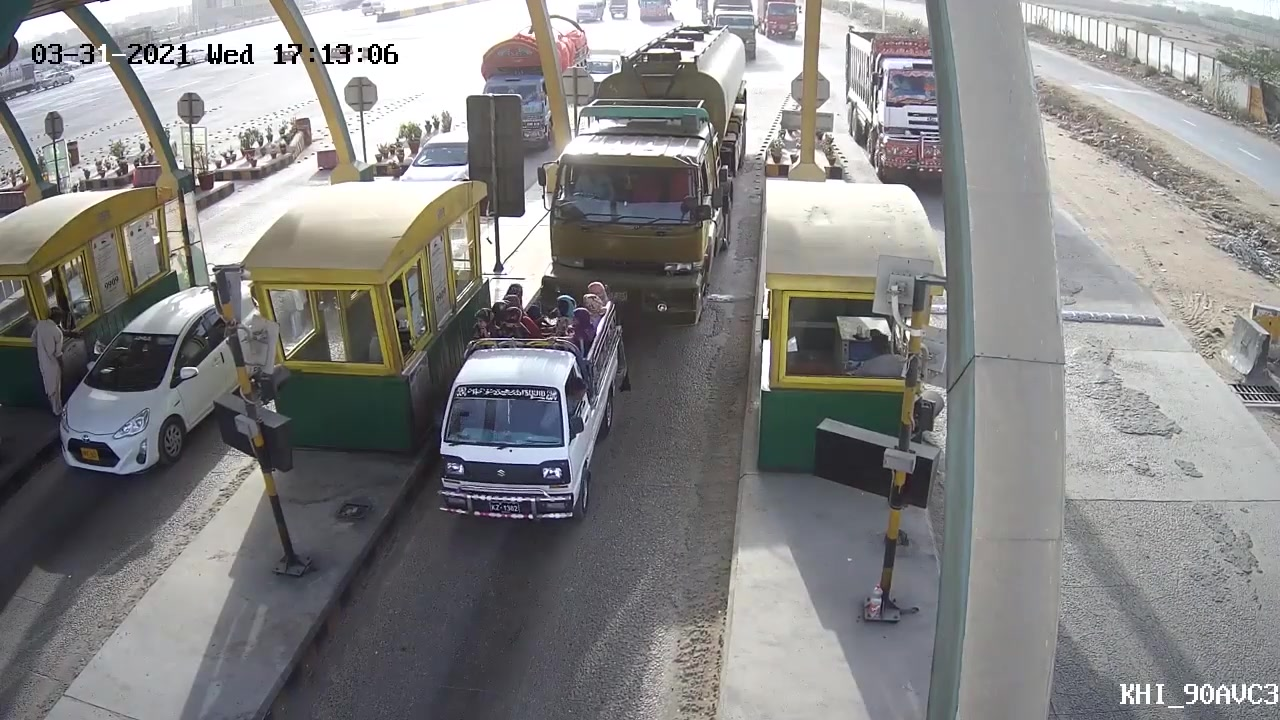F1: (427, 277, 632, 535)
F6: (542, 18, 747, 321)
